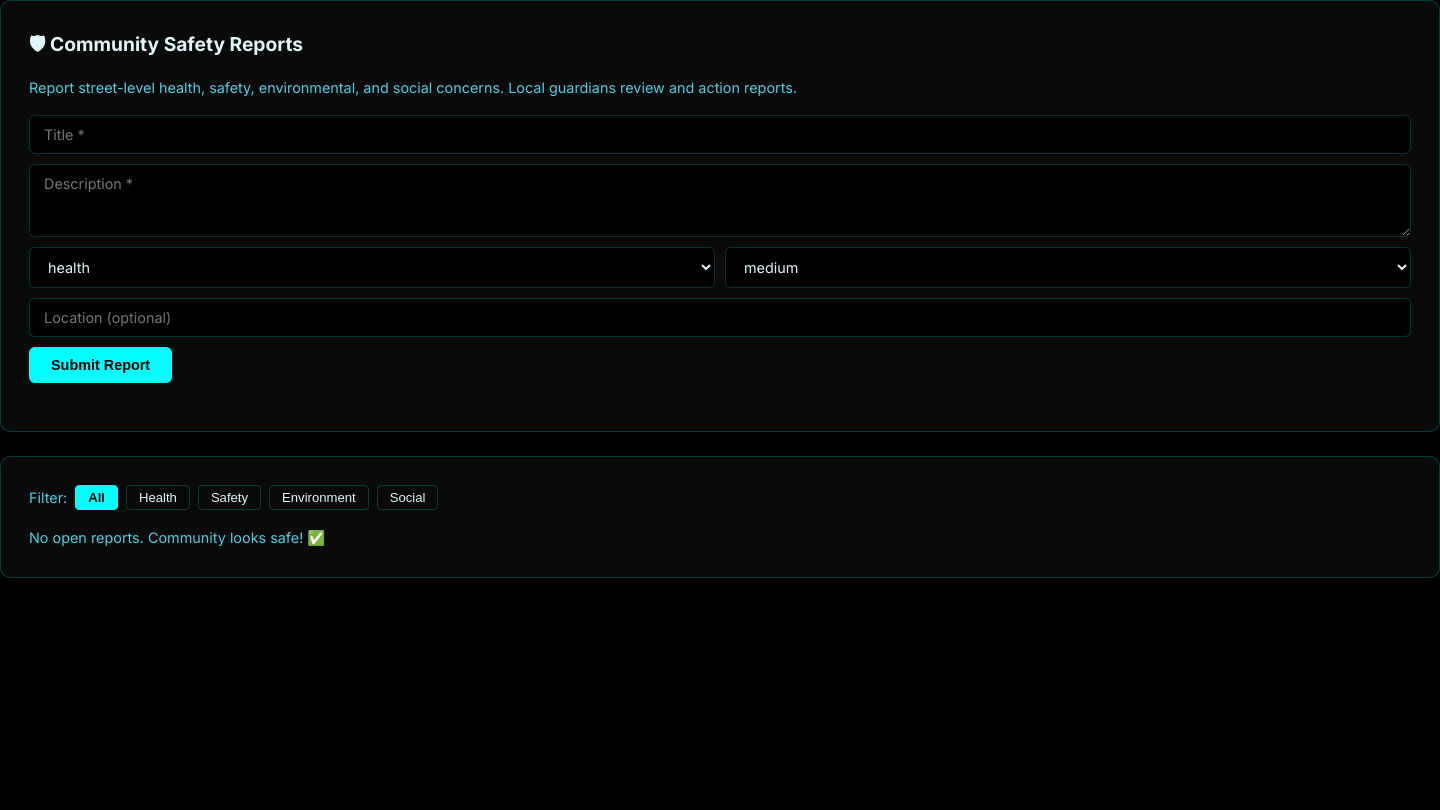
Test: Safety › shows confirmation message after successful submission
Type "Gas leak" into the field with placeholder "Title *" at (720, 134), box [29,115,1411,154]
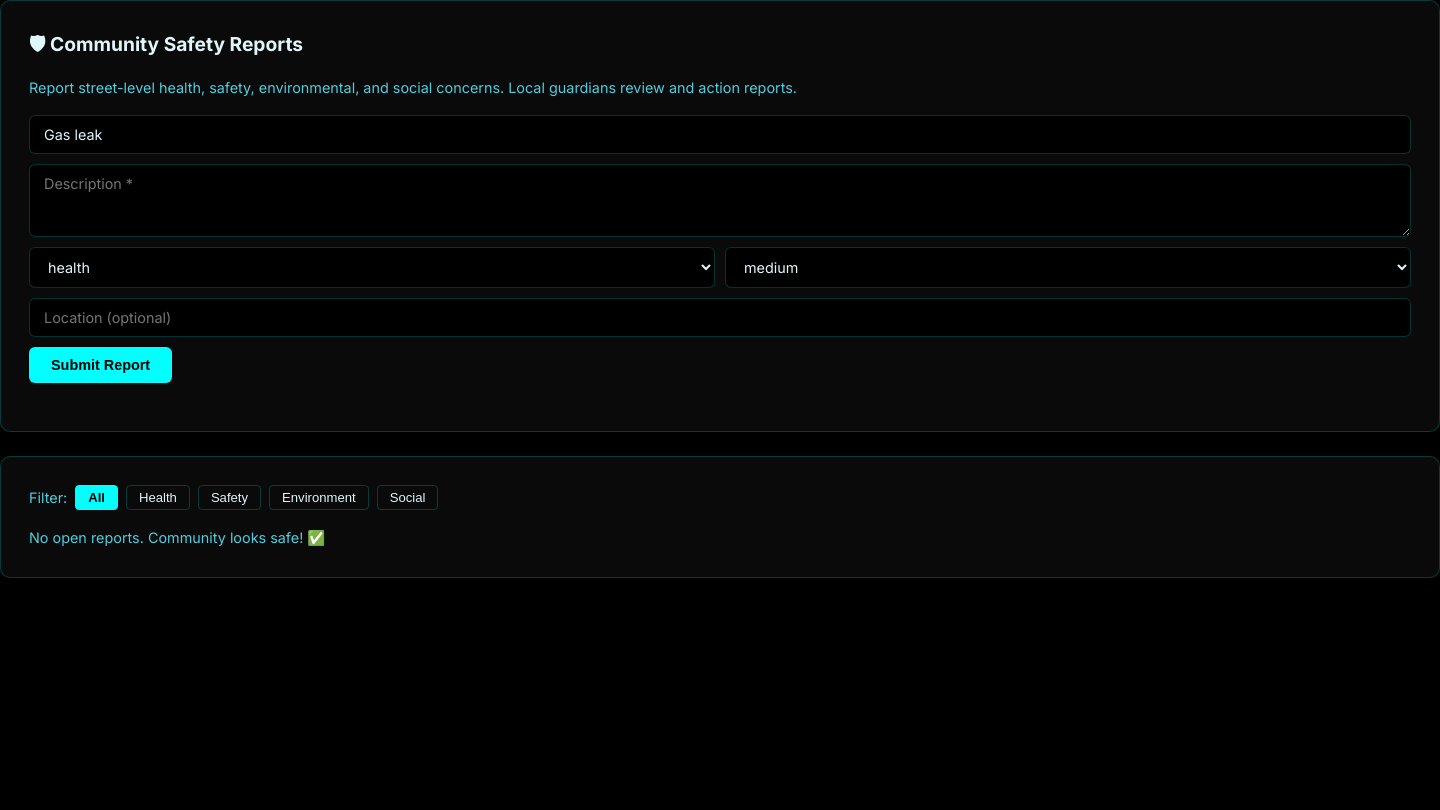
Type "Smell near park" into the text box with placeholder "Description *" at (720, 200), box [29,164,1411,237]
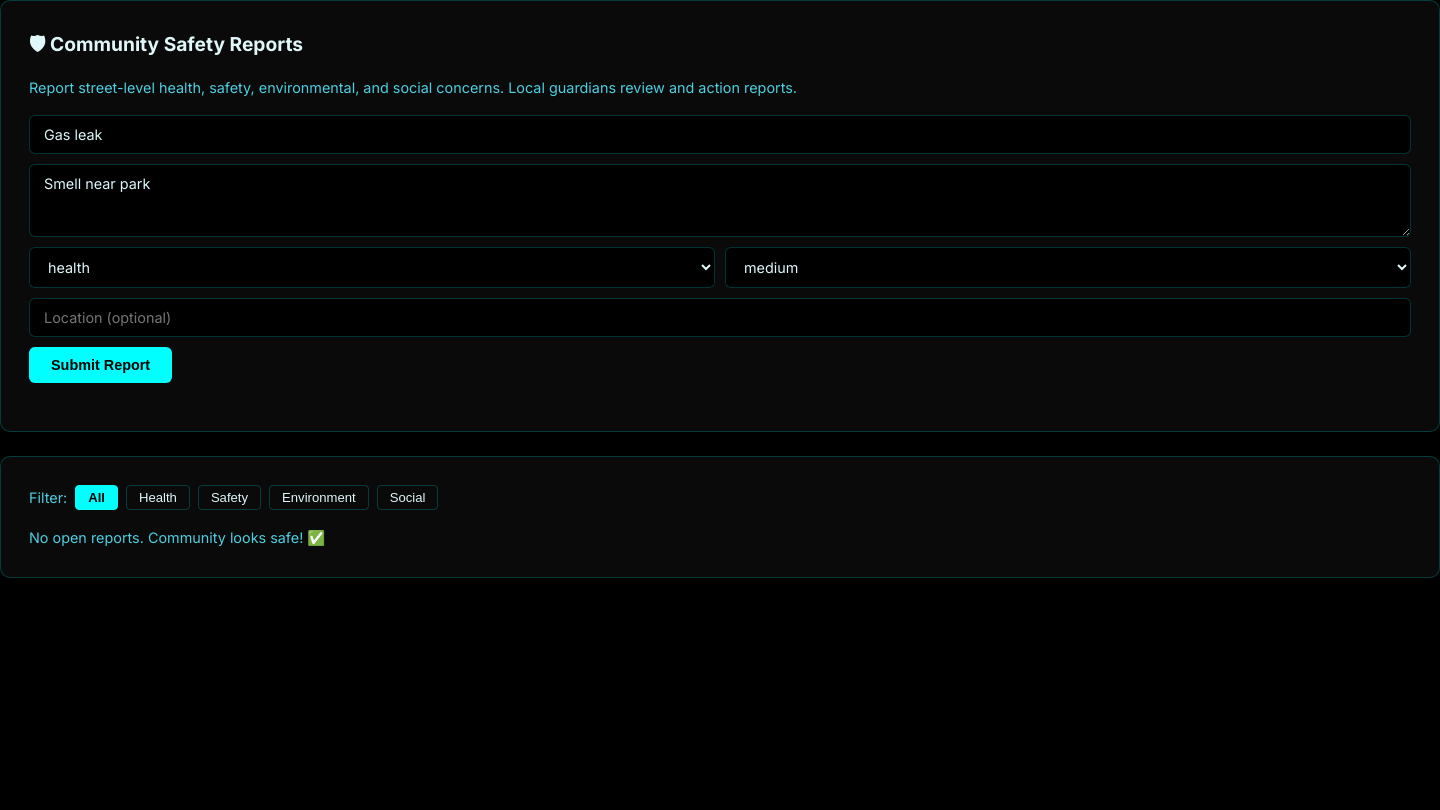
Click the button "Submit Report" at (101, 365), box [29,347,172,383]
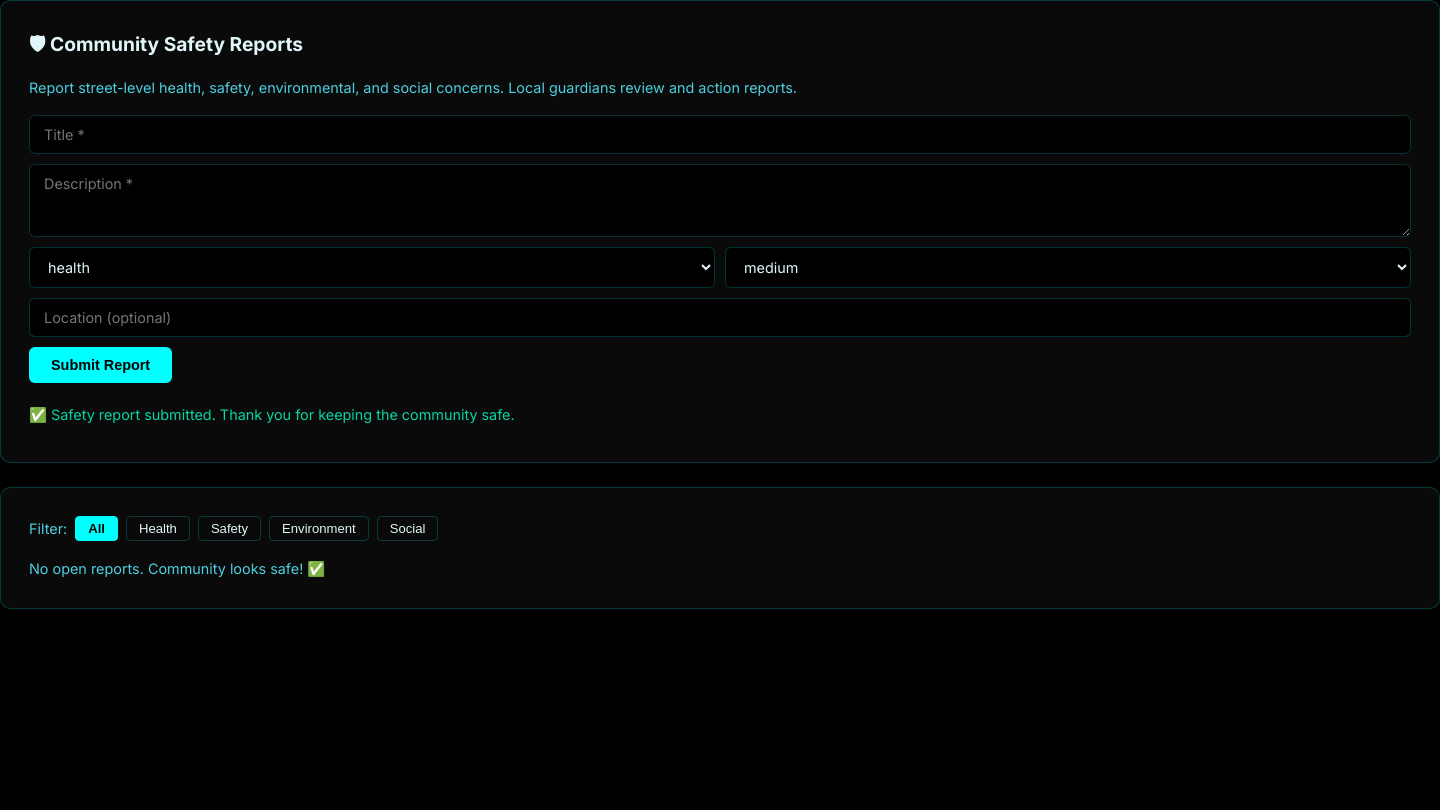
Expected: the text "Safety report submitted" is shown, [51,406,515,423]
